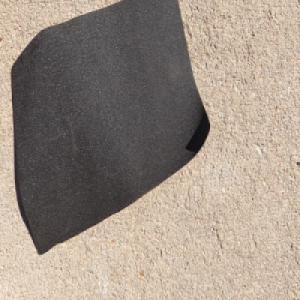PaintChip: (10, 0, 211, 257)
